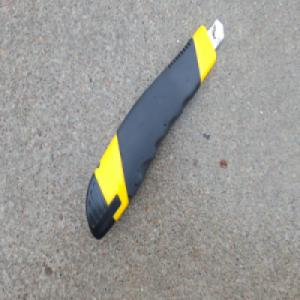Cutter: (85, 17, 226, 241)
